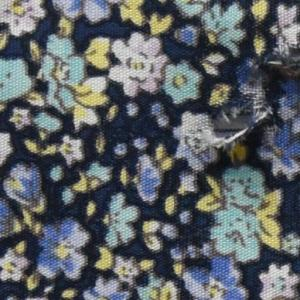Damage: (177, 27, 300, 163)
